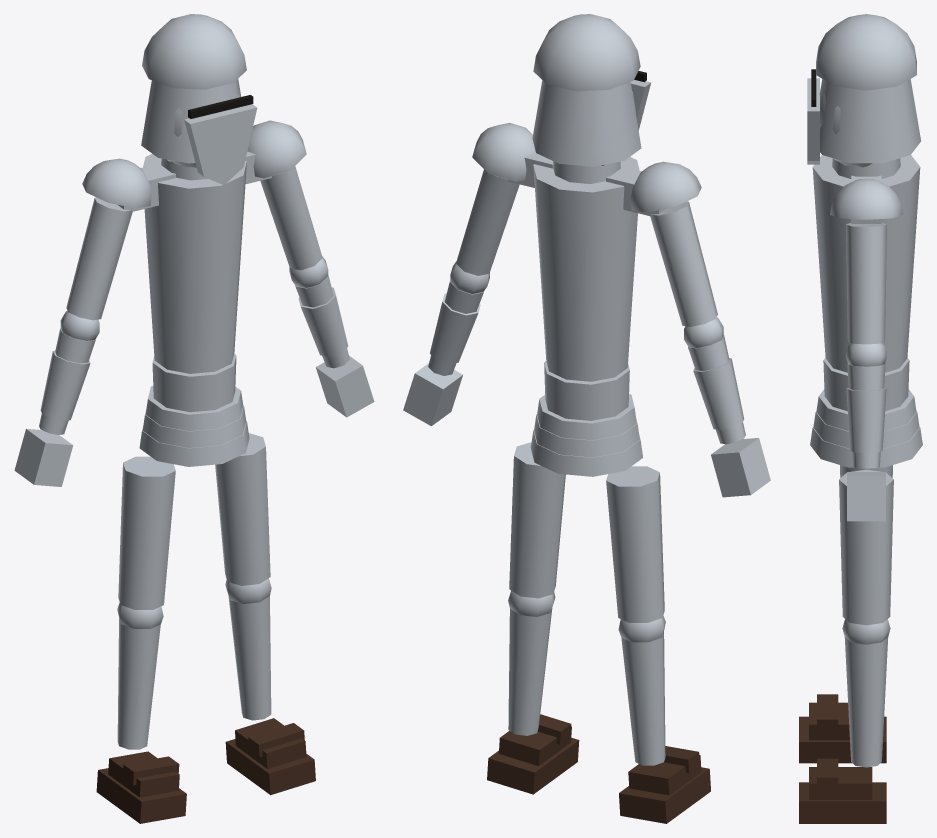
Rendered from knight-body.glb.
3 views of the same model, side by side, from view 1: azimuth 30°, elevation 25°; view 2: azimuth 150°, elevation 25°; view 3: azimuth 270°, elevation 25° (orthographic). The views are drawn at different scales.
Parts seen in each view (by area): view 1: FittedTorso, Thigh-1, Thigh1, WaistPlate (×3), HelmetDome, Pauldron (×2), UpperArm-1, Shin-1, Shin1, Bascinet, VisorPoint, UpperArm1 (+17 smaller); view 2: FittedTorso, Thigh-1, Bascinet, Thigh1, WaistPlate (×3), HelmetDome, Pauldron (×2), UpperArm-1, Shin-1, Shin1, UpperArm1, Waist (+14 smaller); view 3: FittedTorso, Bascinet, HelmetDome, Thigh1, UpperArm1, Shin1, WaistPlate (×3), Sandal1, Pauldron, Bracer1, Hand1, Waist (+13 smaller).
Part boxes in pixels (left/top/right/bottom): FittedTorso: left=143, top=153, right=246, bottom=373; Thigh-1: left=118, top=456, right=175, bottom=609; Thigh1: left=215, top=433, right=270, bottom=585; WaistPlate (×3): left=139, top=386, right=249, bottom=466; HelmetDome: left=142, top=14, right=246, bottom=89; Pauldron (×2): left=82, top=120, right=306, bottom=208; UpperArm-1: left=66, top=197, right=132, bottom=320; Shin-1: left=117, top=618, right=160, bottom=749; Shin1: left=228, top=595, right=271, bottom=720; Bascinet: left=141, top=79, right=241, bottom=163; VisorPoint: left=184, top=104, right=257, bottom=185; UpperArm1: left=260, top=166, right=322, bottom=270; FittedTorso: left=533, top=157, right=639, bottom=381; Thigh-1: left=606, top=466, right=664, bottom=622; Bascinet: left=532, top=80, right=641, bottom=166; Thigh1: left=509, top=442, right=565, bottom=598; WaistPlate (×3): left=530, top=393, right=642, bottom=476; HelmetDome: left=533, top=14, right=640, bottom=91; Pauldron (×2): left=472, top=123, right=701, bottom=212; UpperArm-1: left=650, top=201, right=717, bottom=326; Shin-1: left=621, top=632, right=665, bottom=765; Shin1: left=508, top=608, right=552, bottom=735; UpperArm1: left=456, top=169, right=519, bottom=275; Waist: left=544, top=361, right=629, bottom=420; FittedTorso: left=812, top=155, right=920, bottom=372; Bascinet: left=819, top=79, right=920, bottom=163; HelmetDome: left=816, top=14, right=916, bottom=90; Thigh1: left=839, top=469, right=893, bottom=625; UpperArm1: left=846, top=223, right=886, bottom=344; Shin1: left=844, top=637, right=888, bottom=767; WaistPlate (×3): left=810, top=389, right=922, bottom=467; Sandal1: left=799, top=782, right=886, bottom=823; Pauldron: left=830, top=178, right=902, bottom=219; Bracer1: left=846, top=388, right=886, bottom=453; Hand1: left=847, top=472, right=885, bottom=521; Waist: left=823, top=357, right=909, bottom=411.
Size of the model in its own units: 0.9158 by 1.96 by 0.2875.
